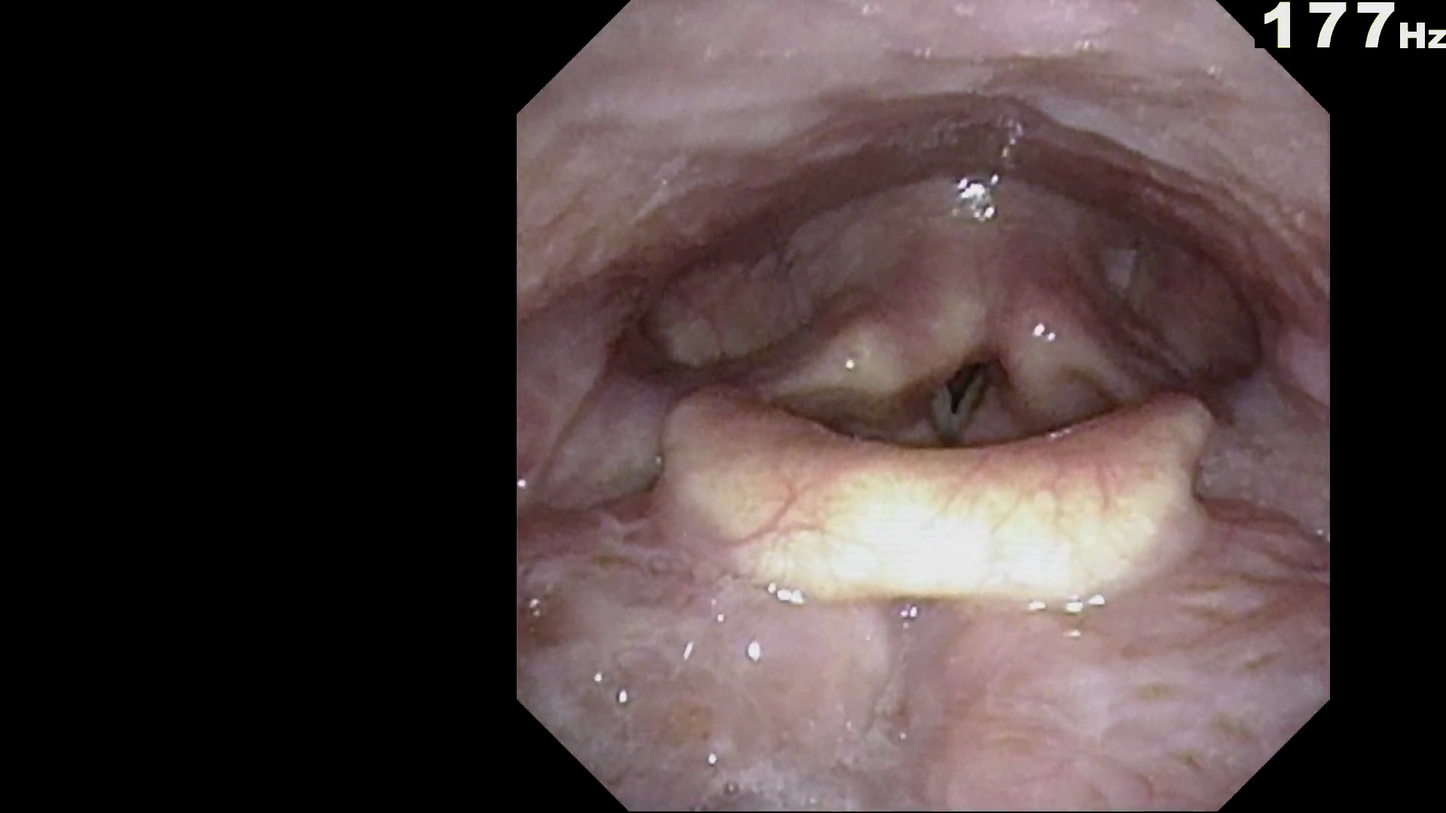epiglottis: (678, 396, 1197, 597)
trachea: (908, 318, 1024, 464), (926, 322, 1017, 445)
